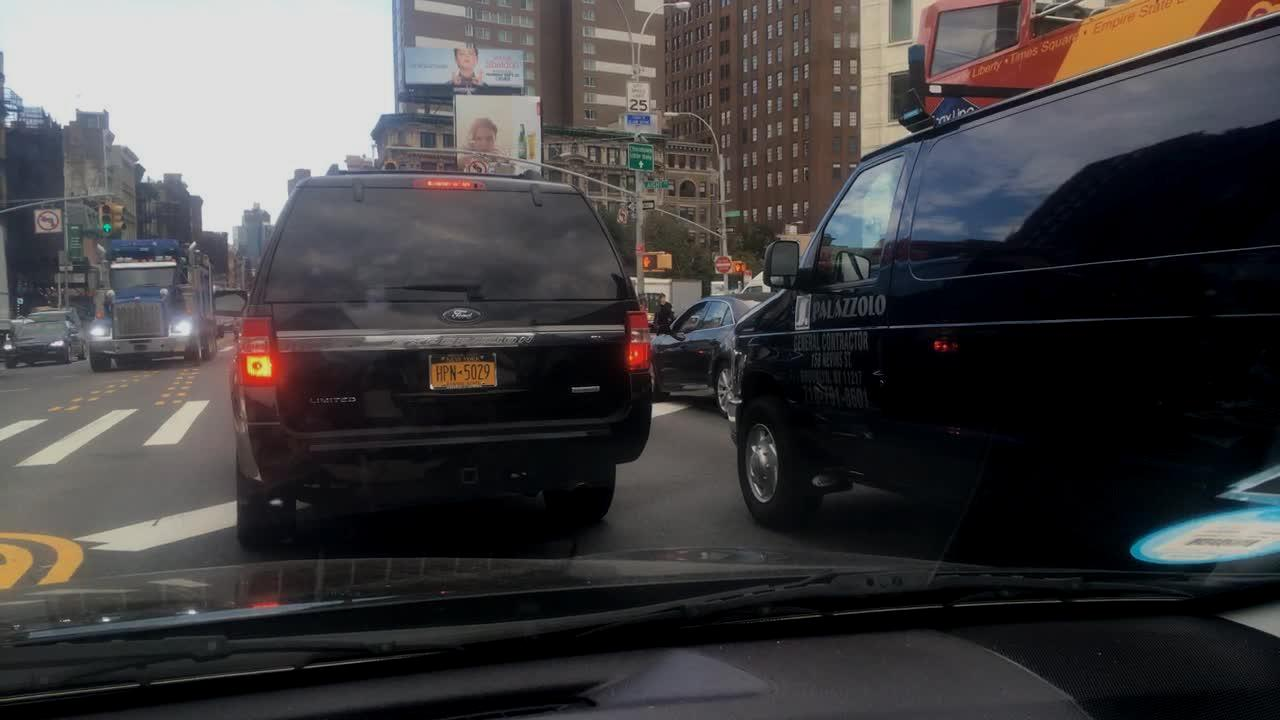ford: (439, 303, 484, 325)
